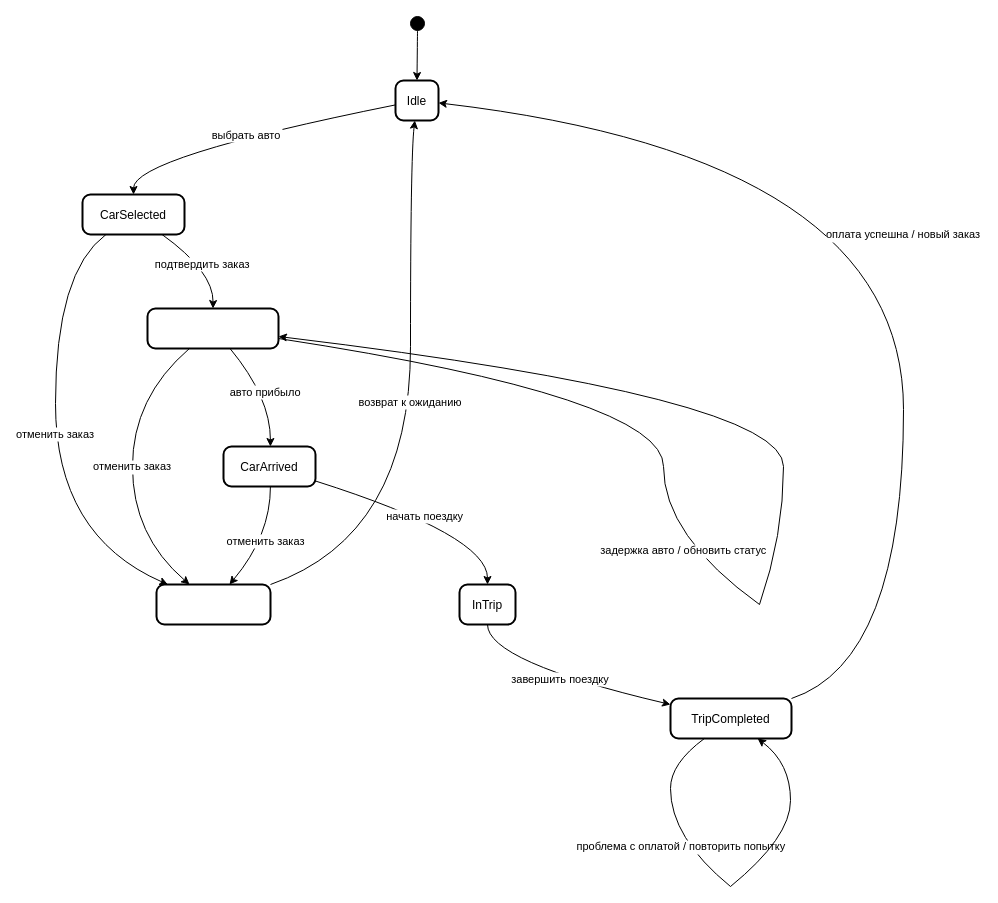
This 998x903 diagram has some shape labels left out. The shapes that lost their labels are listed below. From the top down, each one's centre as x and y in pixels, then its label:
At point 212,328: "OrderConfirmed".
At point 213,604: "TripCancelled".
